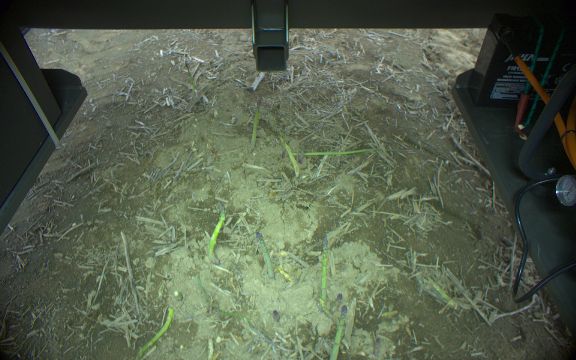aspa: (132, 305, 175, 360), (282, 145, 399, 159), (425, 276, 462, 313), (274, 134, 302, 177), (247, 97, 266, 154), (254, 231, 275, 282), (317, 235, 331, 311), (209, 202, 224, 264), (332, 305, 348, 360), (182, 60, 199, 95), (267, 308, 281, 326), (372, 336, 382, 360), (331, 292, 343, 311)
